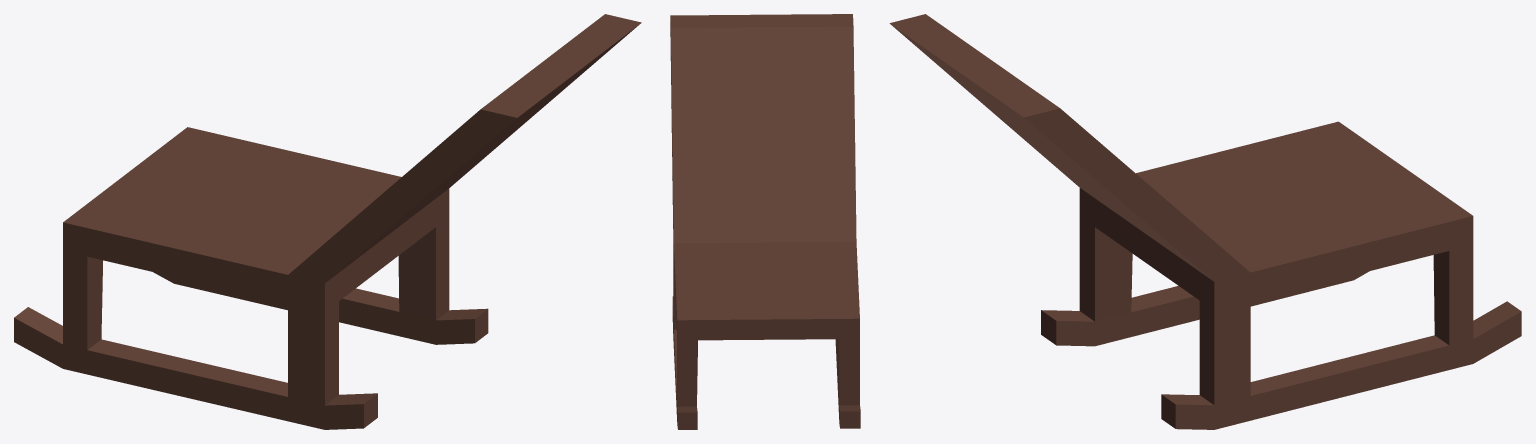
Rendered from rockingchair_prototype.fbx.
3 renders of one model, left to right at view 1: azimuth 30°, elevation 25°; view 2: azimuth 150°, elevation 25°; view 3: azimuth 270°, elevation 25°, orthographic. The views are drawn at different scales.
Parts seen in each view (by area): view 1: rocking_chair; view 2: rocking_chair; view 3: rocking_chair.
Part boxes in pixels (left/top/right/bottom): rocking_chair: left=14, top=14, right=641, bottom=429; rocking_chair: left=670, top=14, right=860, bottom=429; rocking_chair: left=889, top=14, right=1521, bottom=429.
Size of the model in its own units: 1.77 by 1.34 by 2.14.
